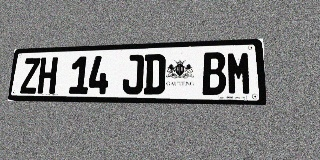1: (69, 56, 90, 94)
4: (88, 55, 110, 94)
B: (202, 52, 226, 95)
D: (143, 54, 166, 95)
H: (37, 57, 58, 94)
J: (122, 54, 144, 94)
M: (226, 51, 252, 95)
Z: (20, 58, 40, 94)
